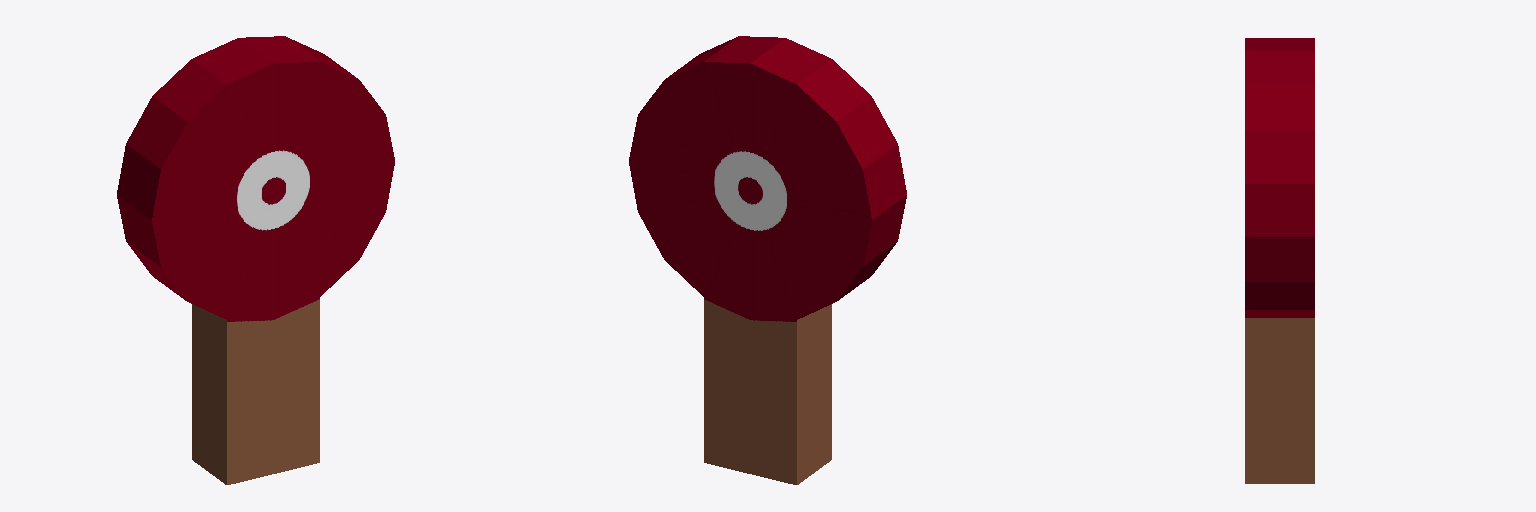
3 renders of one model, left to right at view 1: azimuth 30°, elevation 25°; view 2: azimuth 150°, elevation 25°; view 3: azimuth 270°, elevation 25°, orthographic.
Visible parts, largest first — view 1: pCylinder22; view 2: pCylinder22; view 3: pCylinder22.
Boxes of the visible parts, <box> form: pCylinder22: <box>117,36,394,484</box>; pCylinder22: <box>629,36,906,484</box>; pCylinder22: <box>1245,38,1314,483</box>.
Bounding box in the file's own units: 4.37 × 7.04 × 1.09.
1 materials, 1 textured.